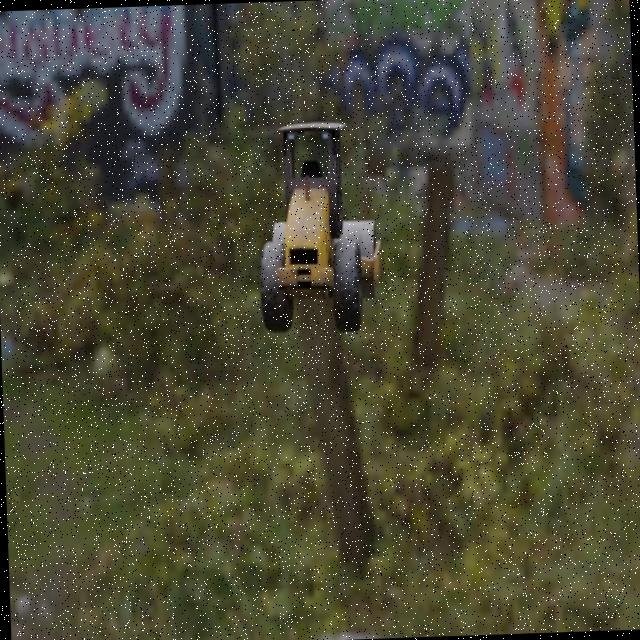Roller: (254, 120, 384, 334)
